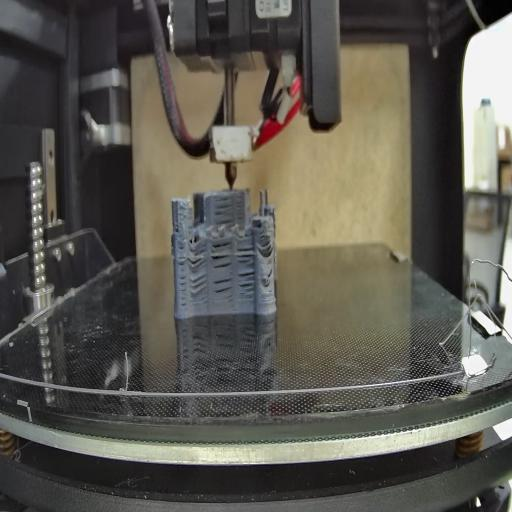cracks: (210, 240, 233, 270), (213, 195, 235, 226), (212, 276, 234, 304), (178, 243, 186, 312), (237, 270, 255, 298), (190, 272, 208, 295), (236, 243, 255, 264), (188, 251, 206, 268), (262, 234, 275, 255), (174, 220, 183, 236), (266, 265, 274, 280)
